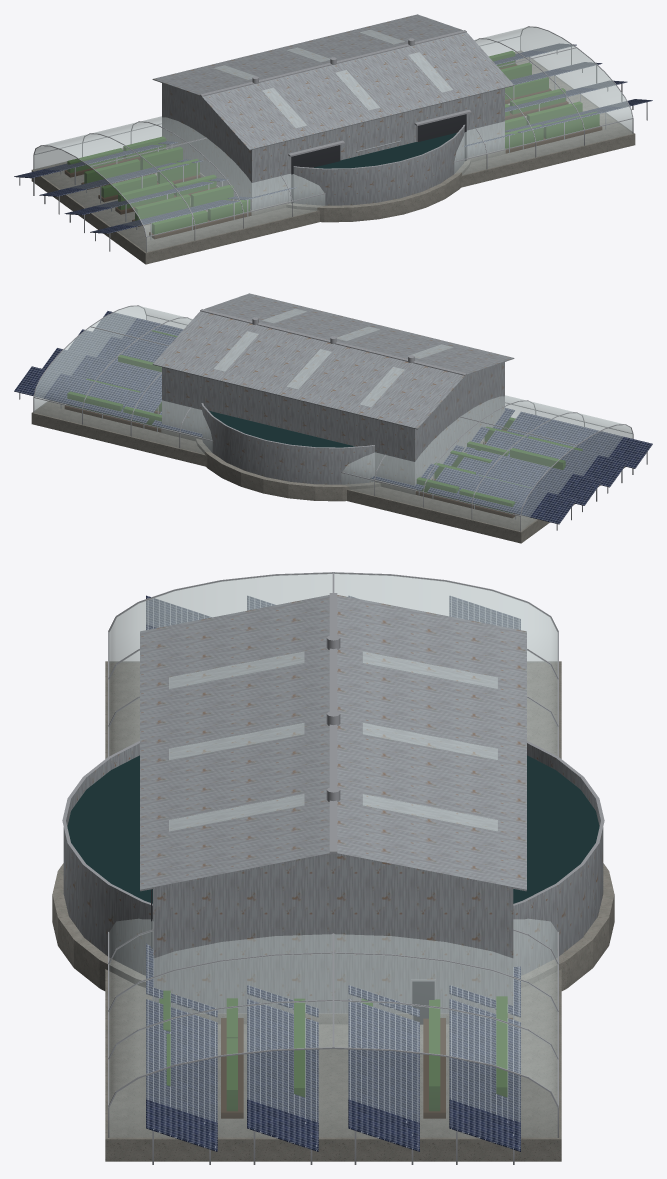
File: fazenda-001.glb
3 views of the same model, one above another, from view 1: azimuth 30°, elevation 25°; view 2: azimuth 150°, elevation 25°; view 3: azimuth 270°, elevation 25° (orthographic). The views are drawn at different scales.
Visible parts, largest first — view 1: el-estufa, el-armazem, el-reservatorio, el-solar; view 2: el-armazem, el-estufa, el-solar, el-reservatorio; view 3: el-armazem, el-estufa, el-solar, el-reservatorio.
Part boxes in pixels (<box>): el-estufa: <box>31,26,635,264</box>; el-armazem: <box>152,14,514,215</box>; el-reservatorio: <box>286,124,470,222</box>; el-solar: <box>14,43,652,251</box>; el-armazem: <box>152,293,514,494</box>; el-estufa: <box>31,305,633,543</box>; el-solar: <box>14,311,652,530</box>; el-reservatorio: <box>196,403,380,501</box>; el-armazem: <box>140,593,526,1024</box>; el-estufa: <box>105,572,561,1161</box>; el-solar: <box>146,595,520,1164</box>; el-reservatorio: <box>52,741,614,990</box>.
Size of the model in its own units: 56 by 10.25 by 25.
17 materials, 5 textured.
